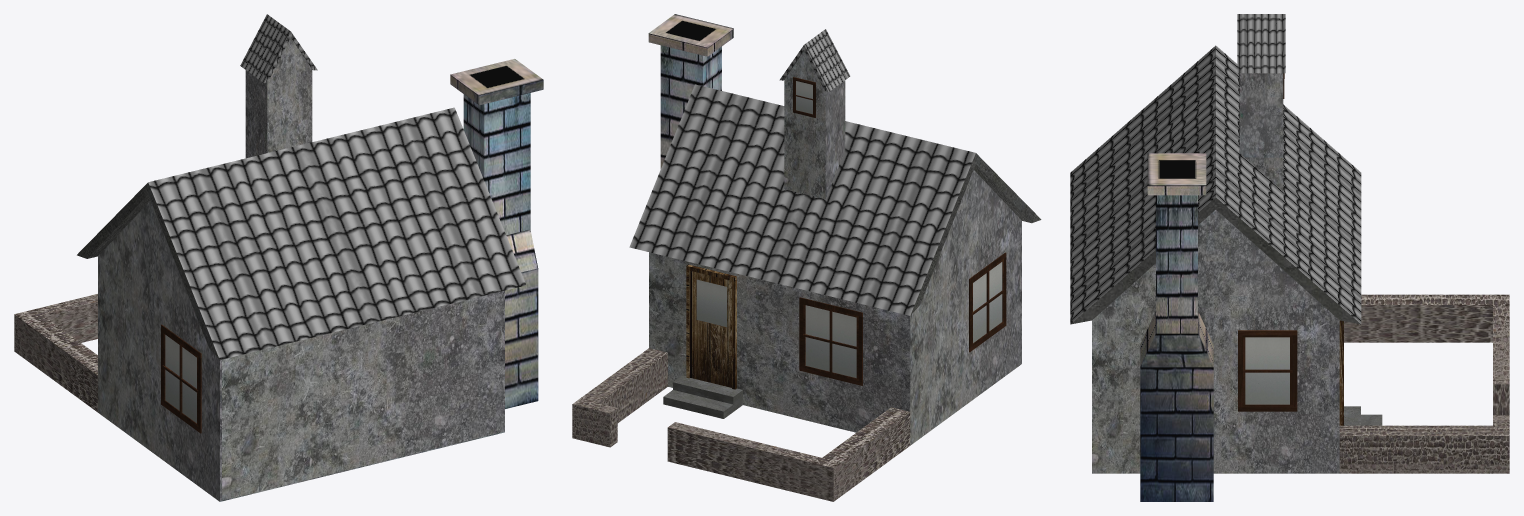
3 views of the same model, side by side, from view 1: azimuth 30°, elevation 25°; view 2: azimuth 150°, elevation 25°; view 3: azimuth 270°, elevation 25° (orthographic). The views are drawn at different scales.
Visible parts, largest first — view 1: 对象001, 对象003, Box005, Box004, 对象004, Box001, 对象002, 对象007, FixedWindow003; view 2: 对象003, 对象001, Box004, 对象004, Box005, Box003, Pivot001, 对象006, FixedWindow002, Box001, 对象002, 对象007 (+4 smaller); view 3: 对象003, 对象001, Box005, Box004, Box003, 对象004, Box001, 对象009, 对象002, FixedWindow001, 对象005, Pivot001.
Boxes of the visible parts, x1,y1,x2,y2 form: 对象001: (98,201,504,501); 对象003: (148,107,525,359); Box005: (450,59,543,408); Box004: (14,294,97,412); 对象004: (245,37,312,158); Box001: (77,182,219,359); 对象002: (240,14,317,82); 对象007: (165,335,196,423); FixedWindow003: (161,324,201,433); 对象003: (629,84,975,315); 对象001: (649,170,1021,445); Box004: (667,407,910,501); 对象004: (784,50,845,199); Box005: (648,14,733,168); Box003: (572,348,667,447); Pivot001: (686,264,736,389); 对象006: (805,305,856,377); FixedWindow002: (799,297,862,385); Box001: (910,153,1041,315); 对象002: (779,29,850,92); 对象007: (973,262,1002,342); 对象003: (1070,45,1361,323); 对象001: (1092,210,1339,473); Box005: (1140,153,1213,501); Box004: (1344,294,1509,415); Box003: (1339,415,1509,473); 对象004: (1239,73,1283,190); Box001: (1070,197,1360,324); 对象009: (1245,337,1289,404); 对象002: (1237,14,1285,73); FixedWindow001: (1238,330,1297,411); 对象005: (1344,406,1382,425); Pivot001: (1339,320,1343,425).
Size of the model in its own units: 174 by 176 by 180.
Materials: 9 (9 with a texture image).
